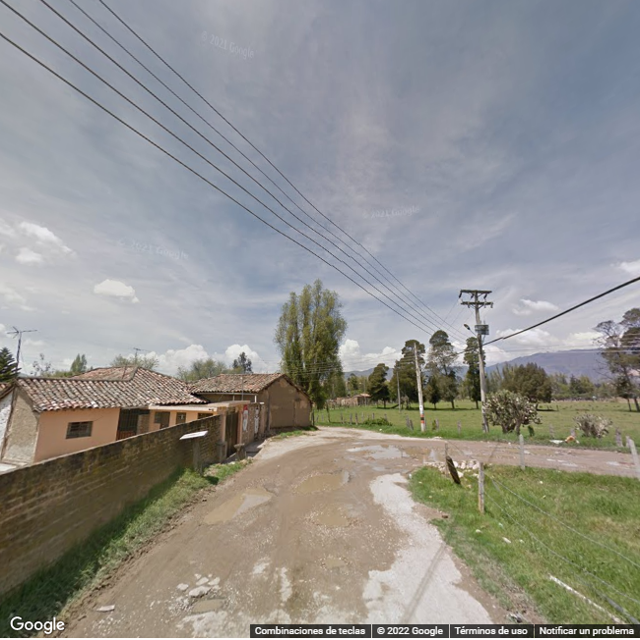D00: (428, 548, 452, 598)
D40: (200, 480, 272, 532), (305, 503, 355, 530), (187, 591, 224, 613), (316, 549, 347, 572)
